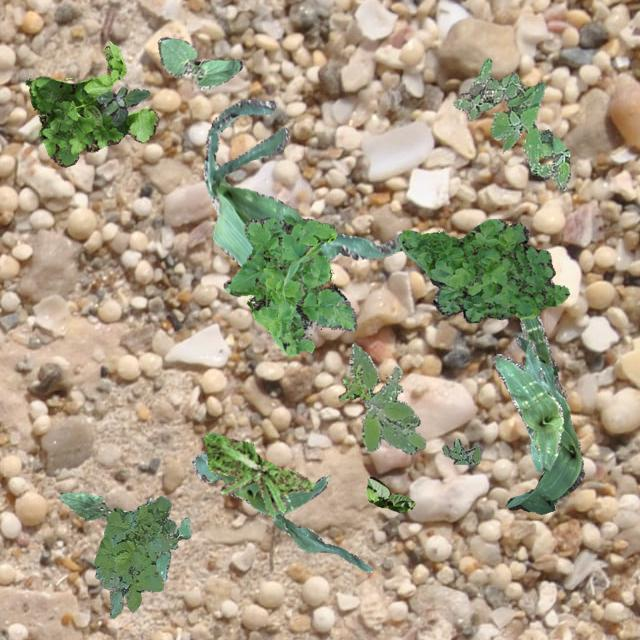crop: (202, 97, 402, 266), (192, 452, 372, 572), (504, 312, 584, 514), (492, 339, 562, 472), (156, 36, 242, 88), (364, 476, 414, 512), (58, 490, 112, 520)
weed: (222, 214, 356, 356), (398, 218, 568, 322), (25, 41, 156, 166), (452, 58, 570, 190), (92, 494, 176, 616), (204, 432, 312, 516), (348, 342, 424, 454), (144, 496, 190, 580), (96, 86, 148, 124), (338, 364, 370, 399), (442, 438, 479, 463)
